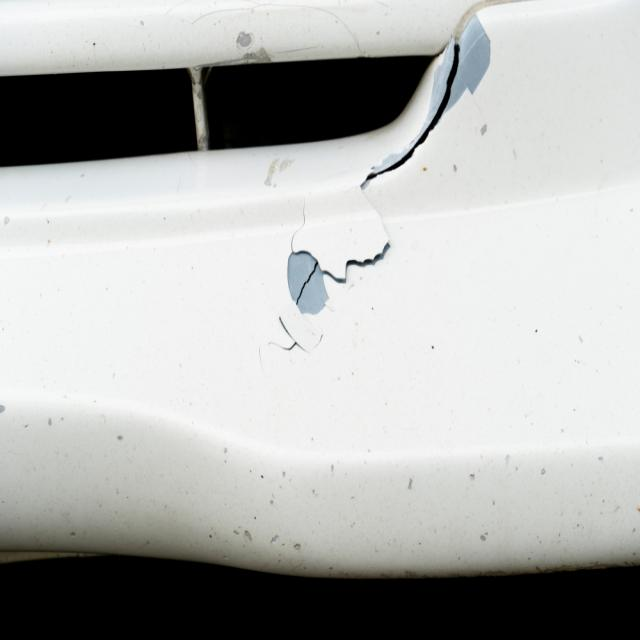crack: (291, 43, 460, 308), (259, 315, 324, 372)
